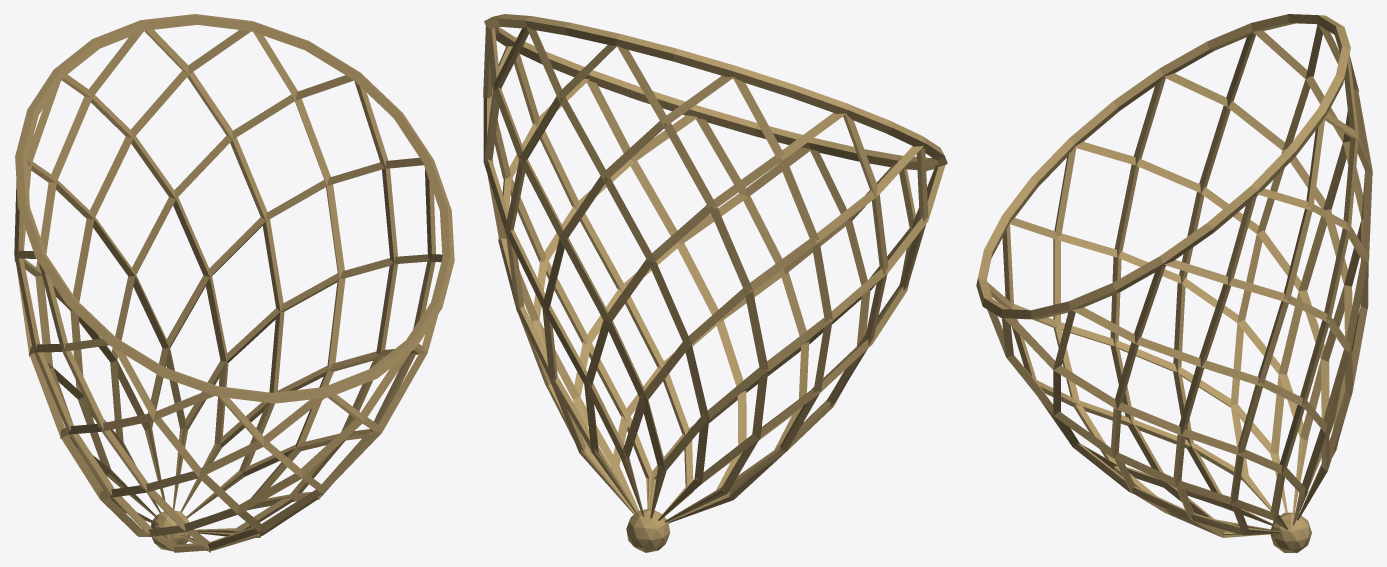
File: HandNetBag.obj
The picture shows the model from 3 angles, left to right: view 1: azimuth 30°, elevation 25°; view 2: azimuth 150°, elevation 25°; view 3: azimuth 270°, elevation 25°; orthographic projection. The views are drawn at different scales.
Parts seen in each view (by area): view 1: HandNetBag; view 2: HandNetBag; view 3: HandNetBag.
Boxes of the visible parts, x1,y1,x2,y2 form: HandNetBag: [14, 14, 454, 552]; HandNetBag: [483, 14, 947, 552]; HandNetBag: [976, 14, 1372, 552].
Bounding box in the file's own units: 0.432 × 0.5269 × 0.3745.
